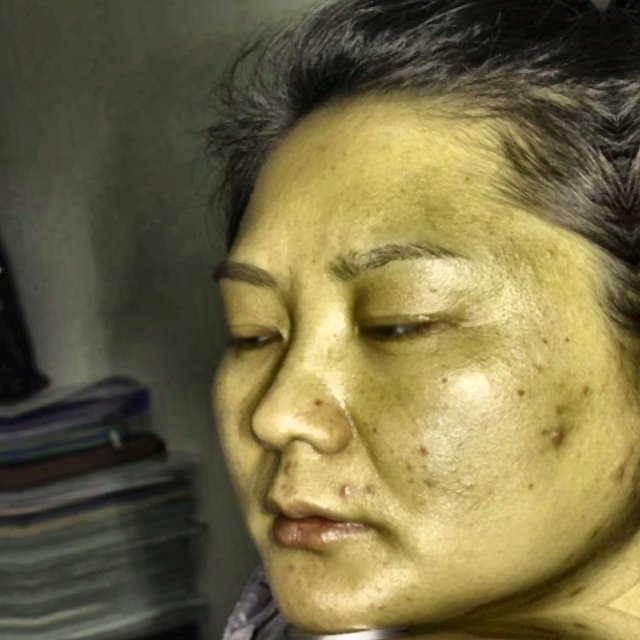comedone: (534, 419, 573, 455), (605, 459, 634, 494), (275, 450, 299, 484), (339, 480, 370, 505)
